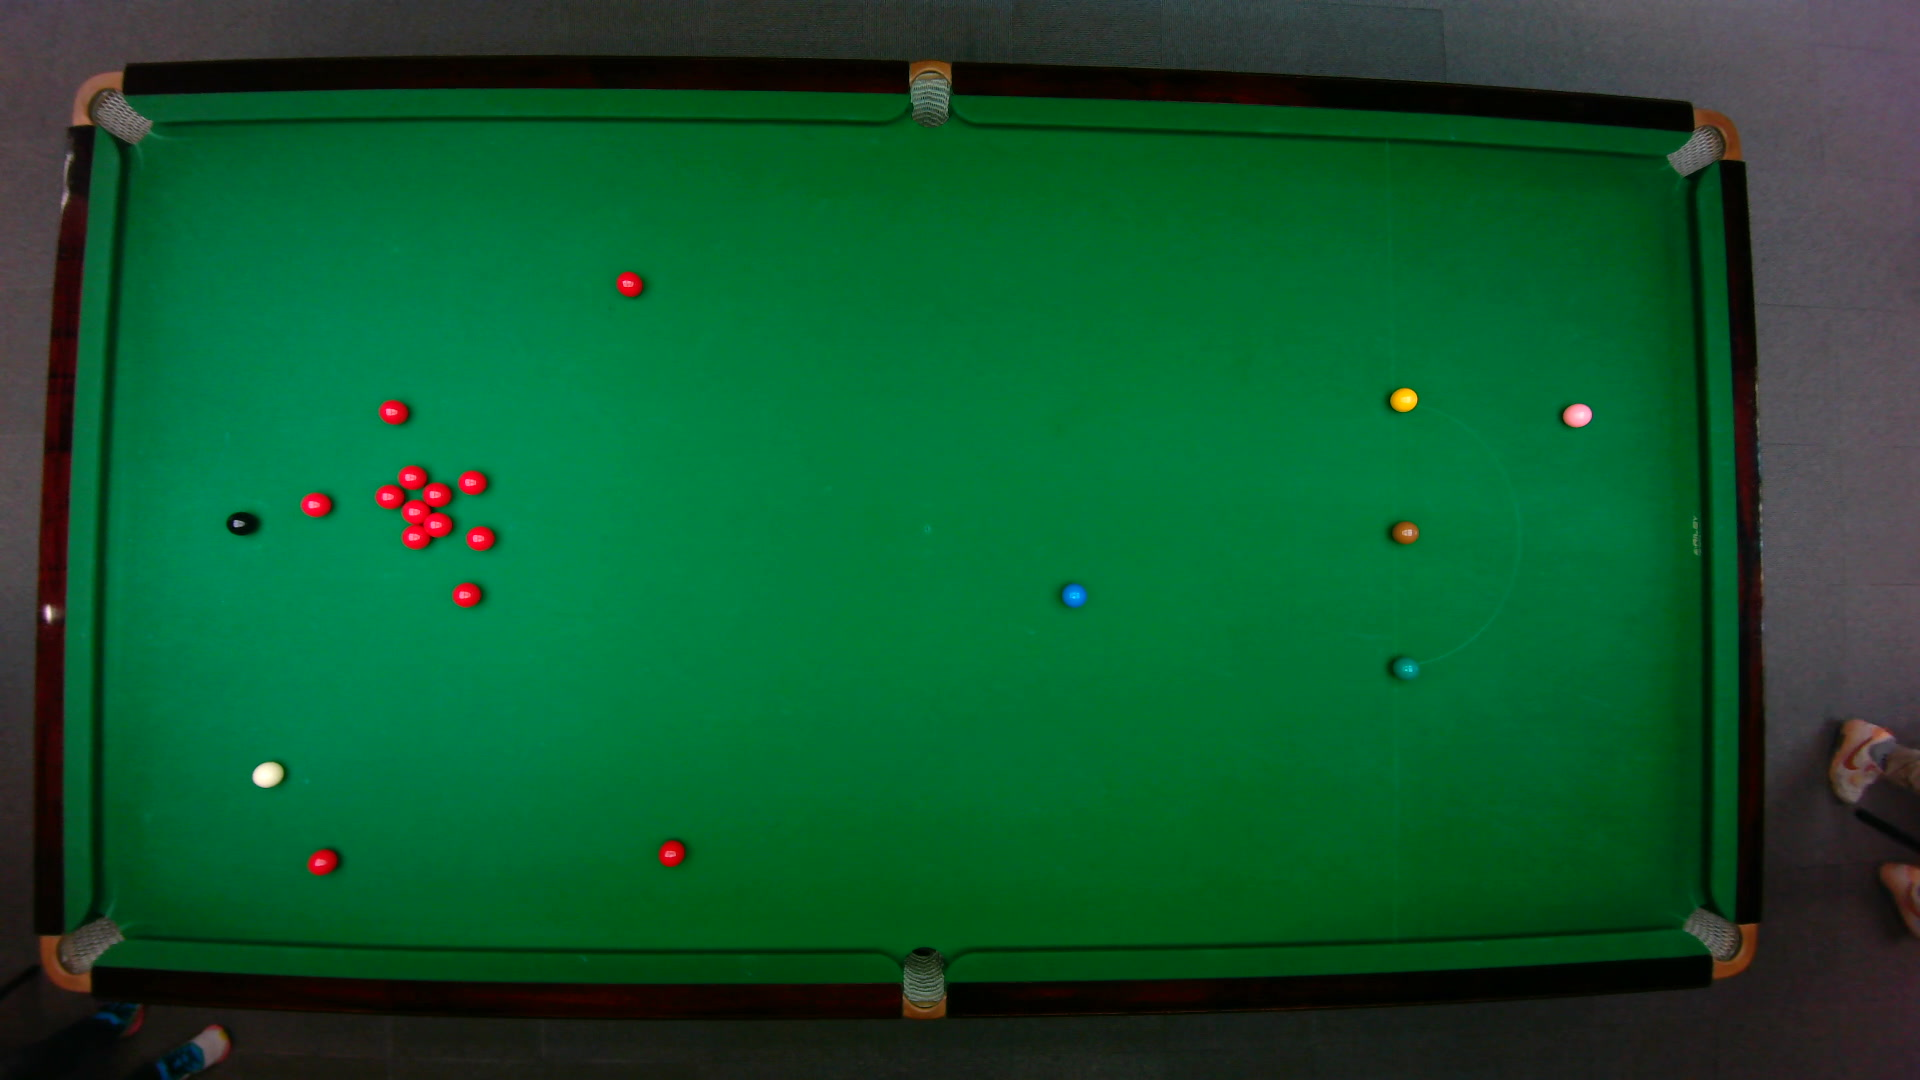bag: (38, 914, 127, 992), (69, 69, 153, 145), (1677, 905, 1758, 978), (1663, 107, 1741, 178), (901, 944, 944, 1021), (909, 58, 949, 128)
black: (224, 509, 256, 535)
blue: (1059, 582, 1087, 608)
brown: (1390, 520, 1419, 545)
green: (1389, 653, 1419, 680)
pink: (1560, 400, 1593, 429)
red: (305, 847, 339, 876), (396, 462, 429, 491), (298, 489, 332, 517), (450, 580, 483, 608), (655, 837, 686, 866), (464, 524, 496, 551), (422, 510, 454, 538), (419, 480, 452, 506), (377, 398, 409, 425), (373, 483, 406, 508), (615, 269, 644, 297), (456, 468, 487, 495), (400, 497, 429, 524), (400, 524, 430, 549)
white: (249, 758, 285, 789)
yellow: (1389, 385, 1418, 411)
zone: (1389, 402, 1520, 666)
